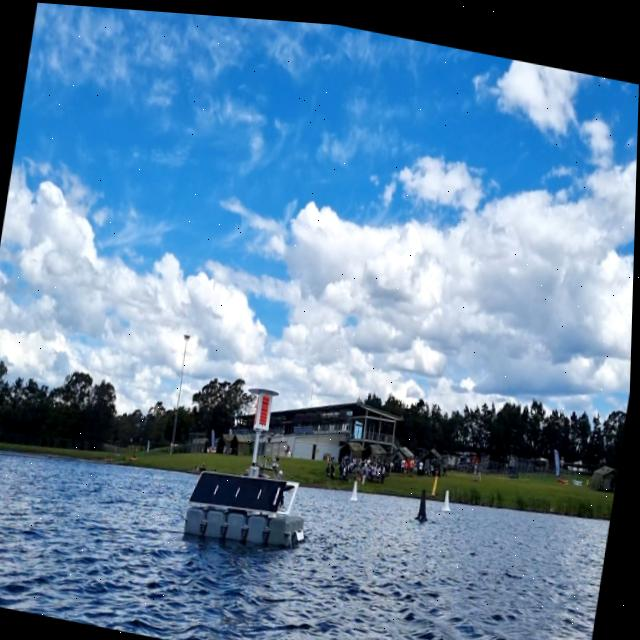led: (258, 387, 275, 425)
